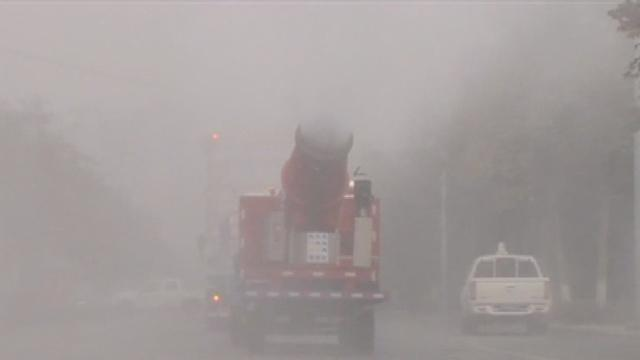car: (458, 241, 555, 336), (111, 278, 207, 317)
